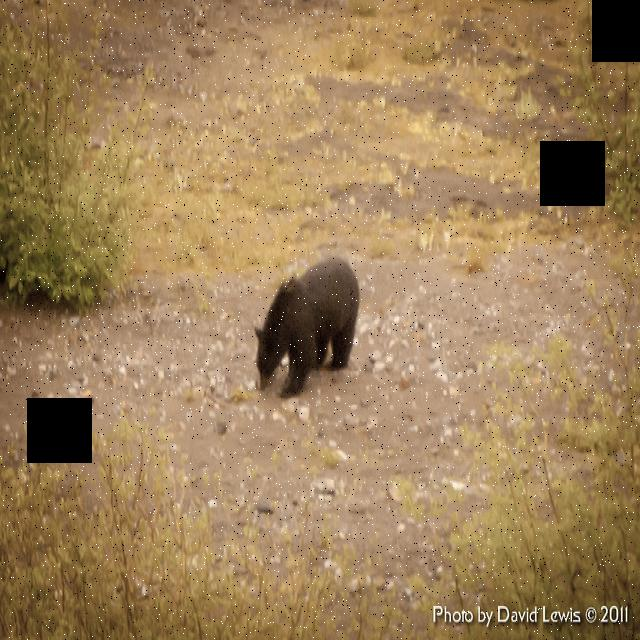Bear: (255, 247, 356, 391)
